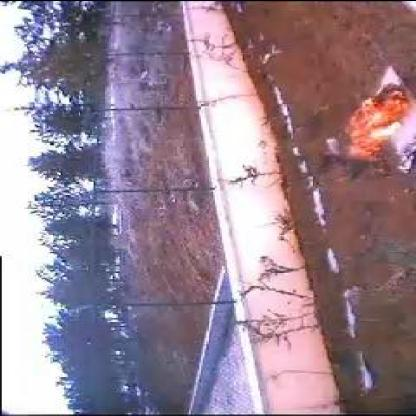foggia-v2-map80-epoch100 - v1 4323: (346, 82, 410, 162)
